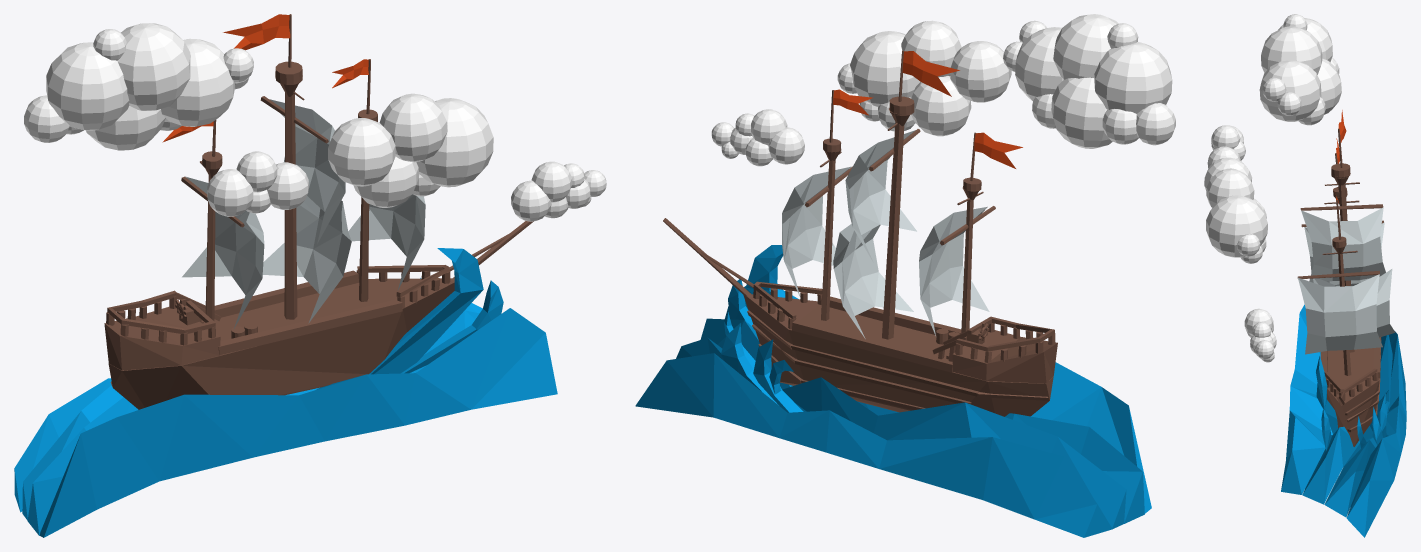
Rendered from History1.gltf.
3 renders of one model, left to right at view 1: azimuth 30°, elevation 25°; view 2: azimuth 150°, elevation 25°; view 3: azimuth 270°, elevation 25°, orthographic. The views are drawn at different scales.
Parts seen in each view (by area): view 1: group1756419456; view 2: group1756419456; view 3: group1756419456.
Boxes of the visible parts, x1,y1,x2,y2 form: group1756419456: (14,14,606,537); group1756419456: (635,14,1175,537); group1756419456: (1204,14,1406,537).
Size of the model in its own units: 14.39 by 12.62 by 6.42.
